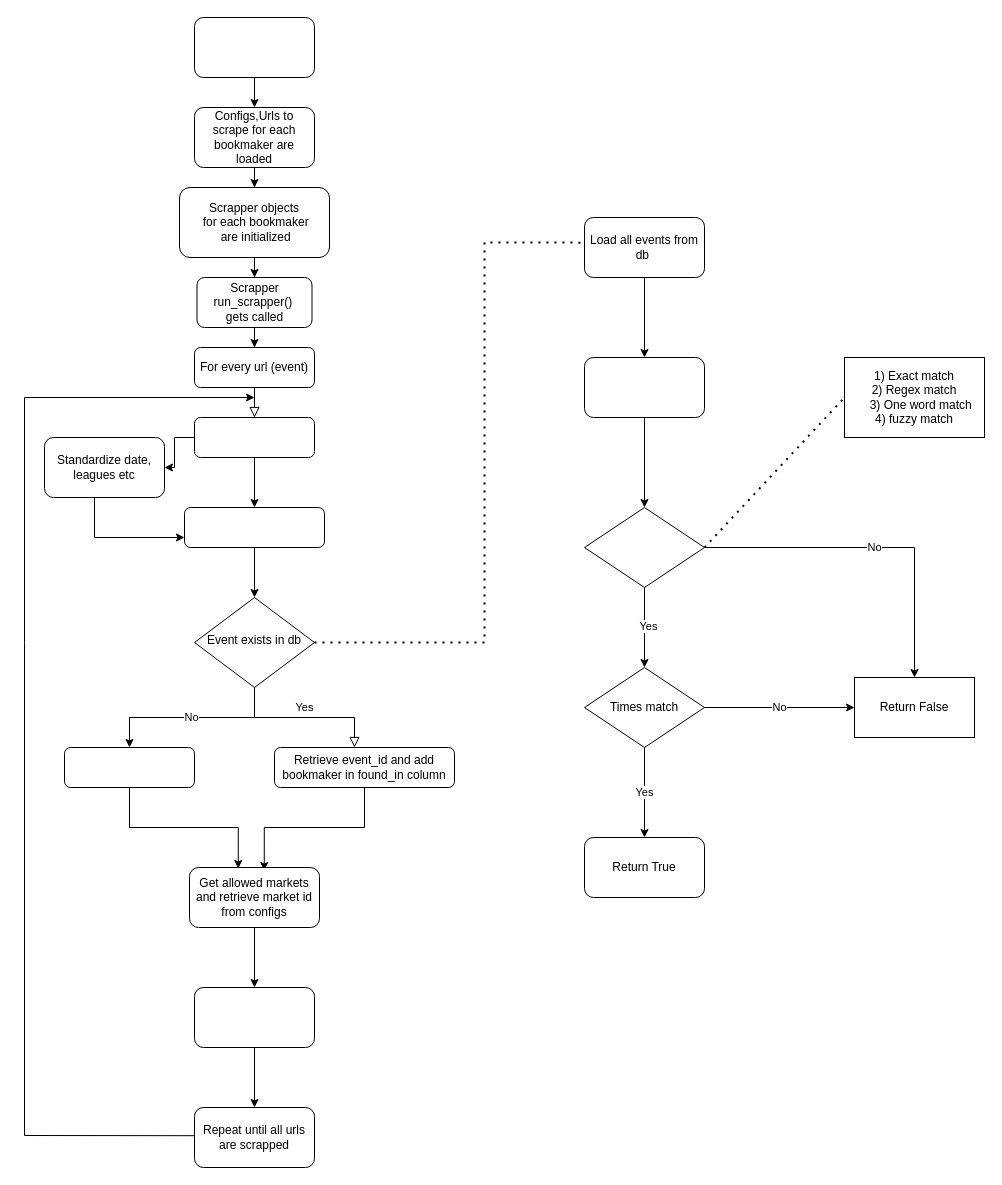
Image size: 1002x1185. Some labels were removed from this diagram. Each missing label, with the centre of its shape:
"Create new event and retrieve event_id" goes at (x=129, y=767).
"For every market, wtrite the odds to the db in specified format" goes at (x=254, y=1017).
"Get event details" goes at (x=254, y=437).
"Handle event" goes at (x=254, y=527).
"Init event machcing" goes at (x=644, y=387).
"Scrapper_manager run_scrappers() gets called from Main" goes at (x=254, y=47).
"Team names match" goes at (x=644, y=547).
